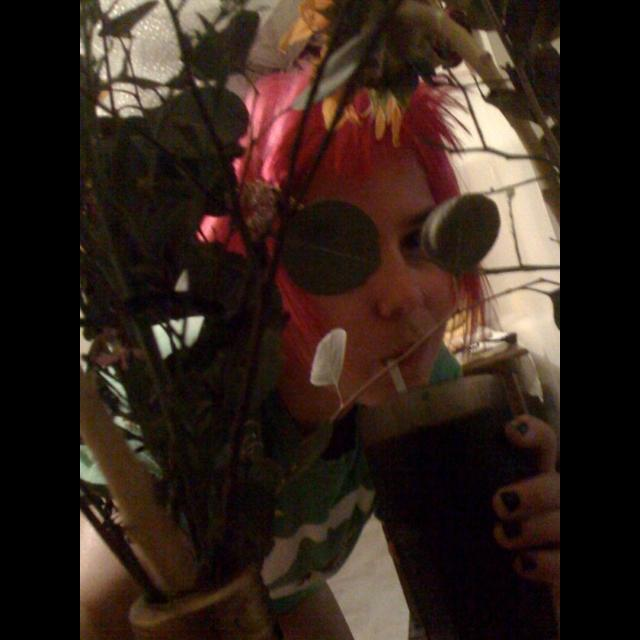Flower: (310, 326, 348, 406), (278, 0, 334, 52), (360, 86, 404, 146), (320, 72, 356, 132)
